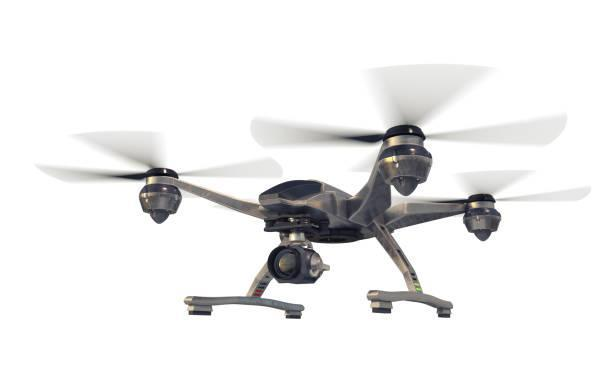camera: (239, 227, 340, 300)
